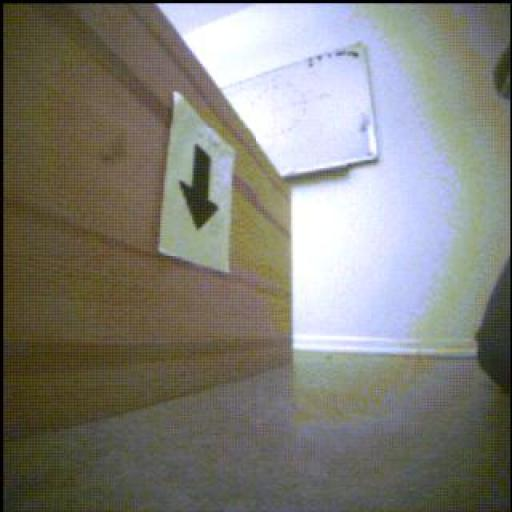arrow: (180, 147, 219, 230)
